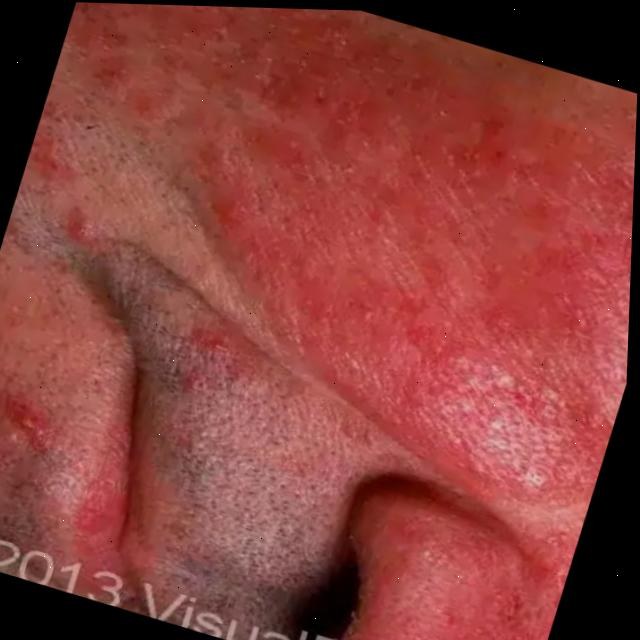Rosacea: (0, 0, 640, 437), (0, 337, 79, 498)
